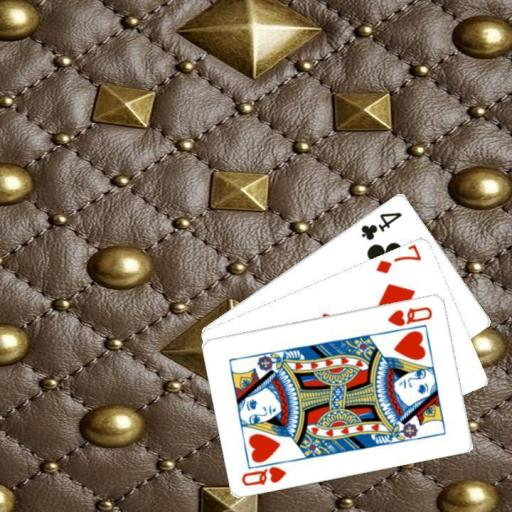card-corner: (238, 456, 292, 488), (373, 243, 423, 275), (358, 208, 404, 242), (384, 303, 434, 328)
